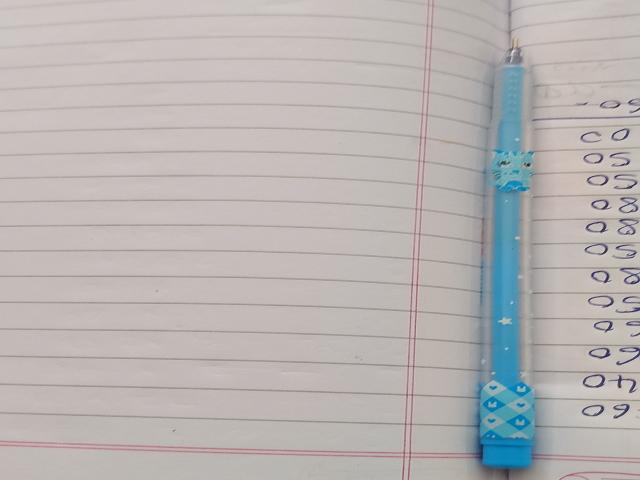PEN: (471, 41, 583, 479)
